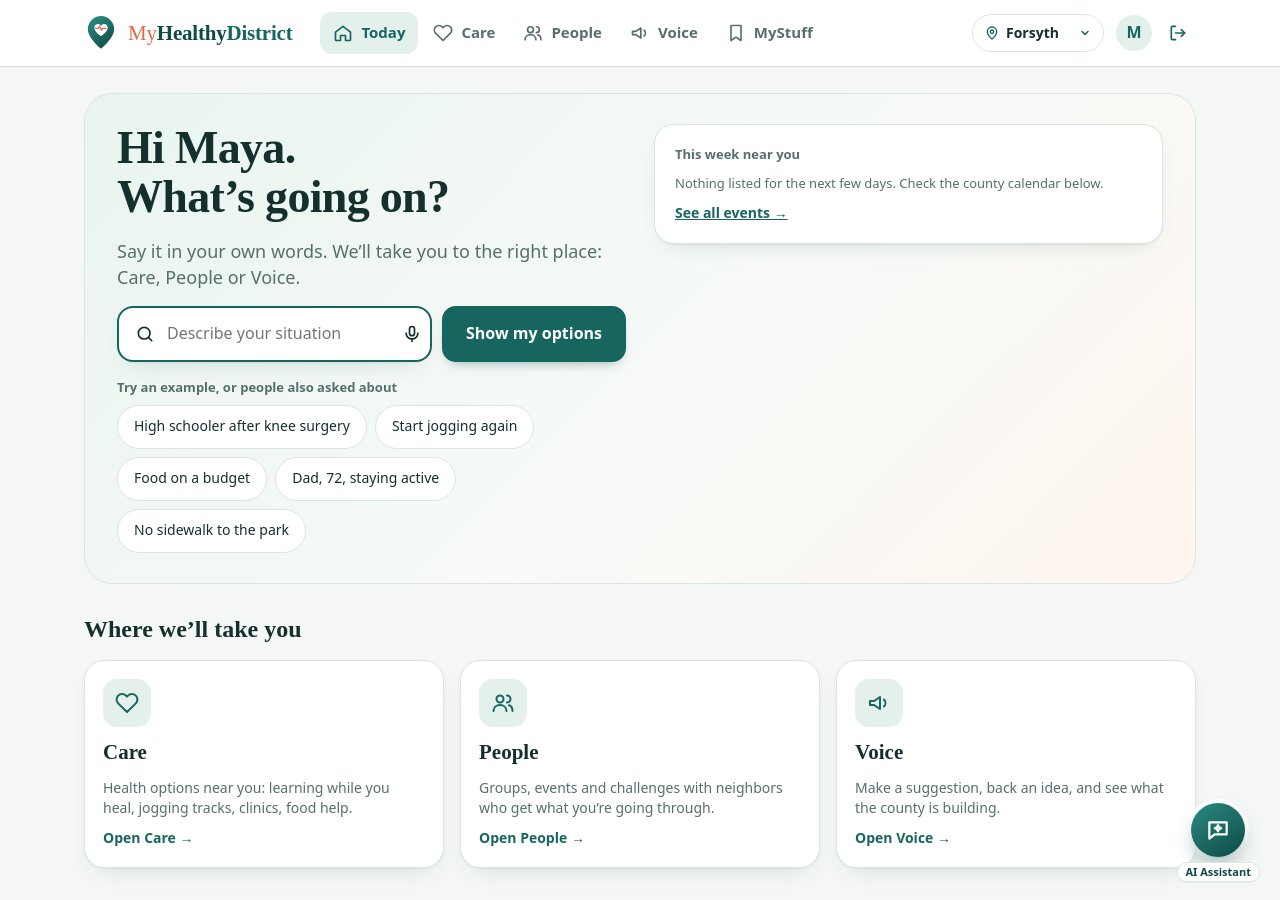
Test: County dropdown › starts on Forsyth, lists nearby counties, and keeps showing Forsyth whichever is picked
Later steps or results of the test are not shown.
expect the text "only has Forsyth County information" is not shown: met
Step 1. Select "Gwinnett" in the dropdown named "County" → (1052, 33), box [1006,16,1097,50]
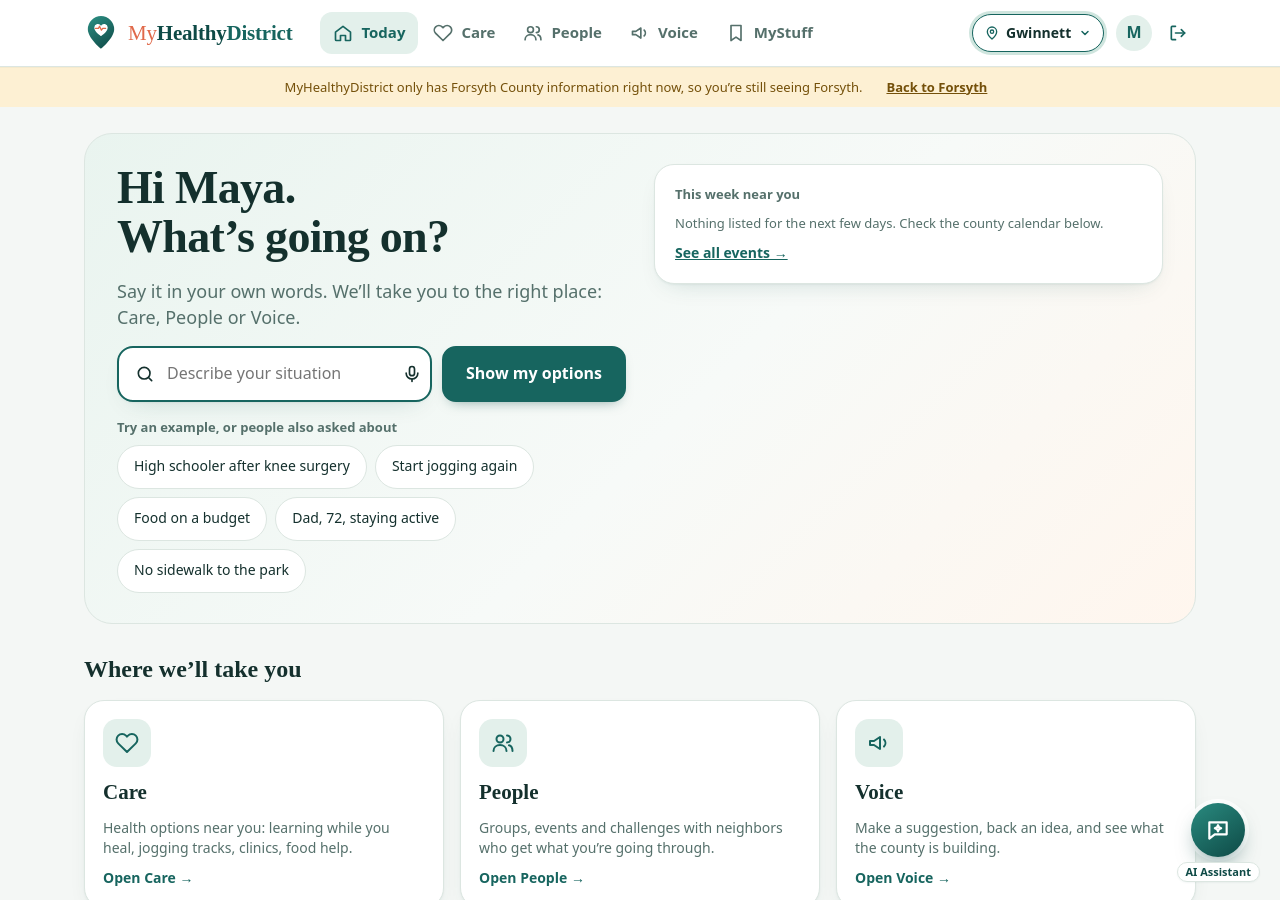
expect the heading "Hi Maya.What’s going on?" is shown: met, box [117,162,449,262]
expect the text "only has Forsyth County information" is shown: met, box [285,78,862,96]
